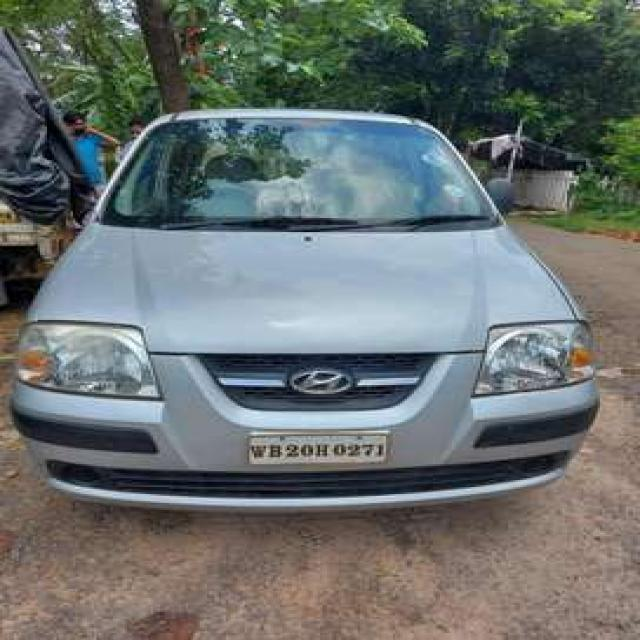Plate: (248, 434, 385, 464)
